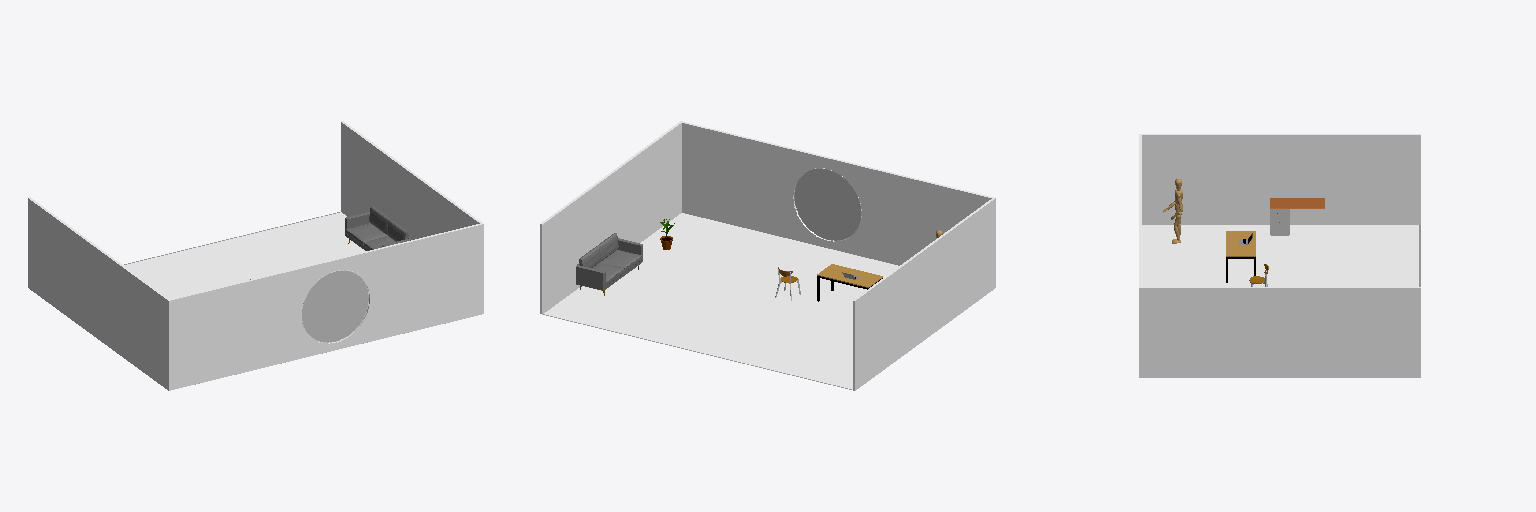
The model's file is Home.obj.
3 renders of one model, left to right at view 1: azimuth 30°, elevation 25°; view 2: azimuth 150°, elevation 25°; view 3: azimuth 270°, elevation 25°, orthographic.
Parts seen in each view (by area): view 1: wall_2_10, wall_3_16, room_4_20, wall_1_5, sweethome3d_window_pane_22; view 2: room_4_20, wall_2_11, wall_3_16, wall_1_5, sweethome3d_window_pane_22, Table_26; view 3: wall_1_4, wall_3_17, room_4_20, Table_26, Desk_84.
Boxes of the visible parts, x1,y1,x2,y2 form: wall_2_10: [169, 224, 483, 390]; wall_3_16: [28, 198, 168, 390]; room_4_20: [124, 212, 365, 298]; wall_1_5: [341, 122, 479, 239]; sweethome3d_window_pane_22: [302, 271, 368, 342]; room_4_20: [544, 213, 898, 389]; wall_2_11: [682, 123, 991, 265]; wall_3_16: [854, 198, 995, 390]; wall_1_5: [541, 123, 681, 314]; sweethome3d_window_pane_22: [794, 169, 860, 240]; Table_26: [817, 264, 882, 287]; wall_1_4: [1139, 288, 1420, 377]; wall_3_17: [1142, 135, 1420, 224]; room_4_20: [1142, 225, 1418, 286]; Table_26: [1226, 231, 1255, 256]; Desk_84: [1270, 198, 1324, 208].
Bounding box in the file's own units: 917 × 250 × 710.